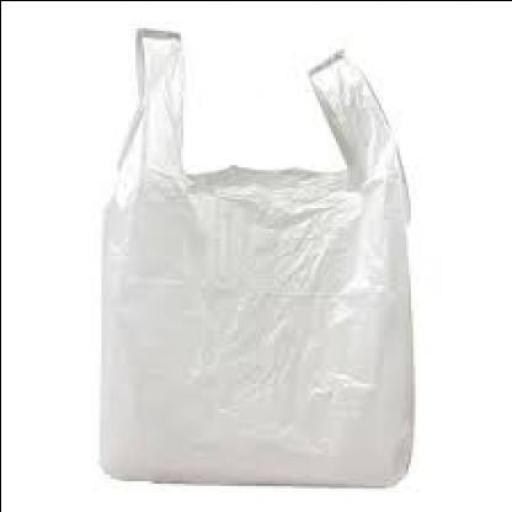plastic: (93, 25, 412, 485)
